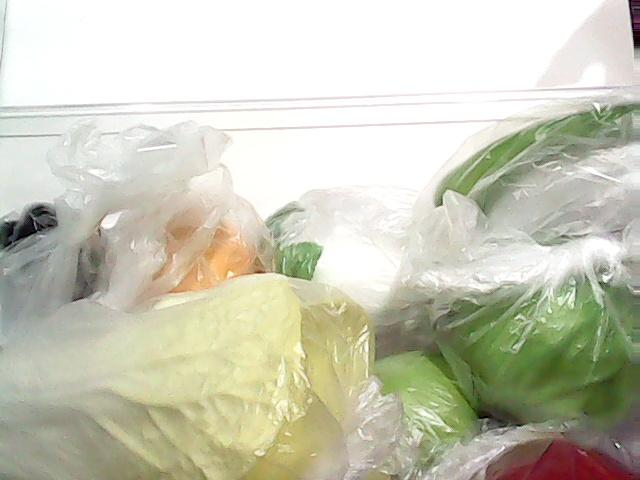apple: (359, 347, 473, 459), (460, 436, 636, 480)
cabbage: (428, 240, 640, 462)
grape: (0, 185, 100, 282)
lemon: (102, 209, 270, 306)
napa cabbage: (1, 272, 367, 474)
pepper: (419, 74, 640, 233)
radish: (259, 190, 435, 334)
